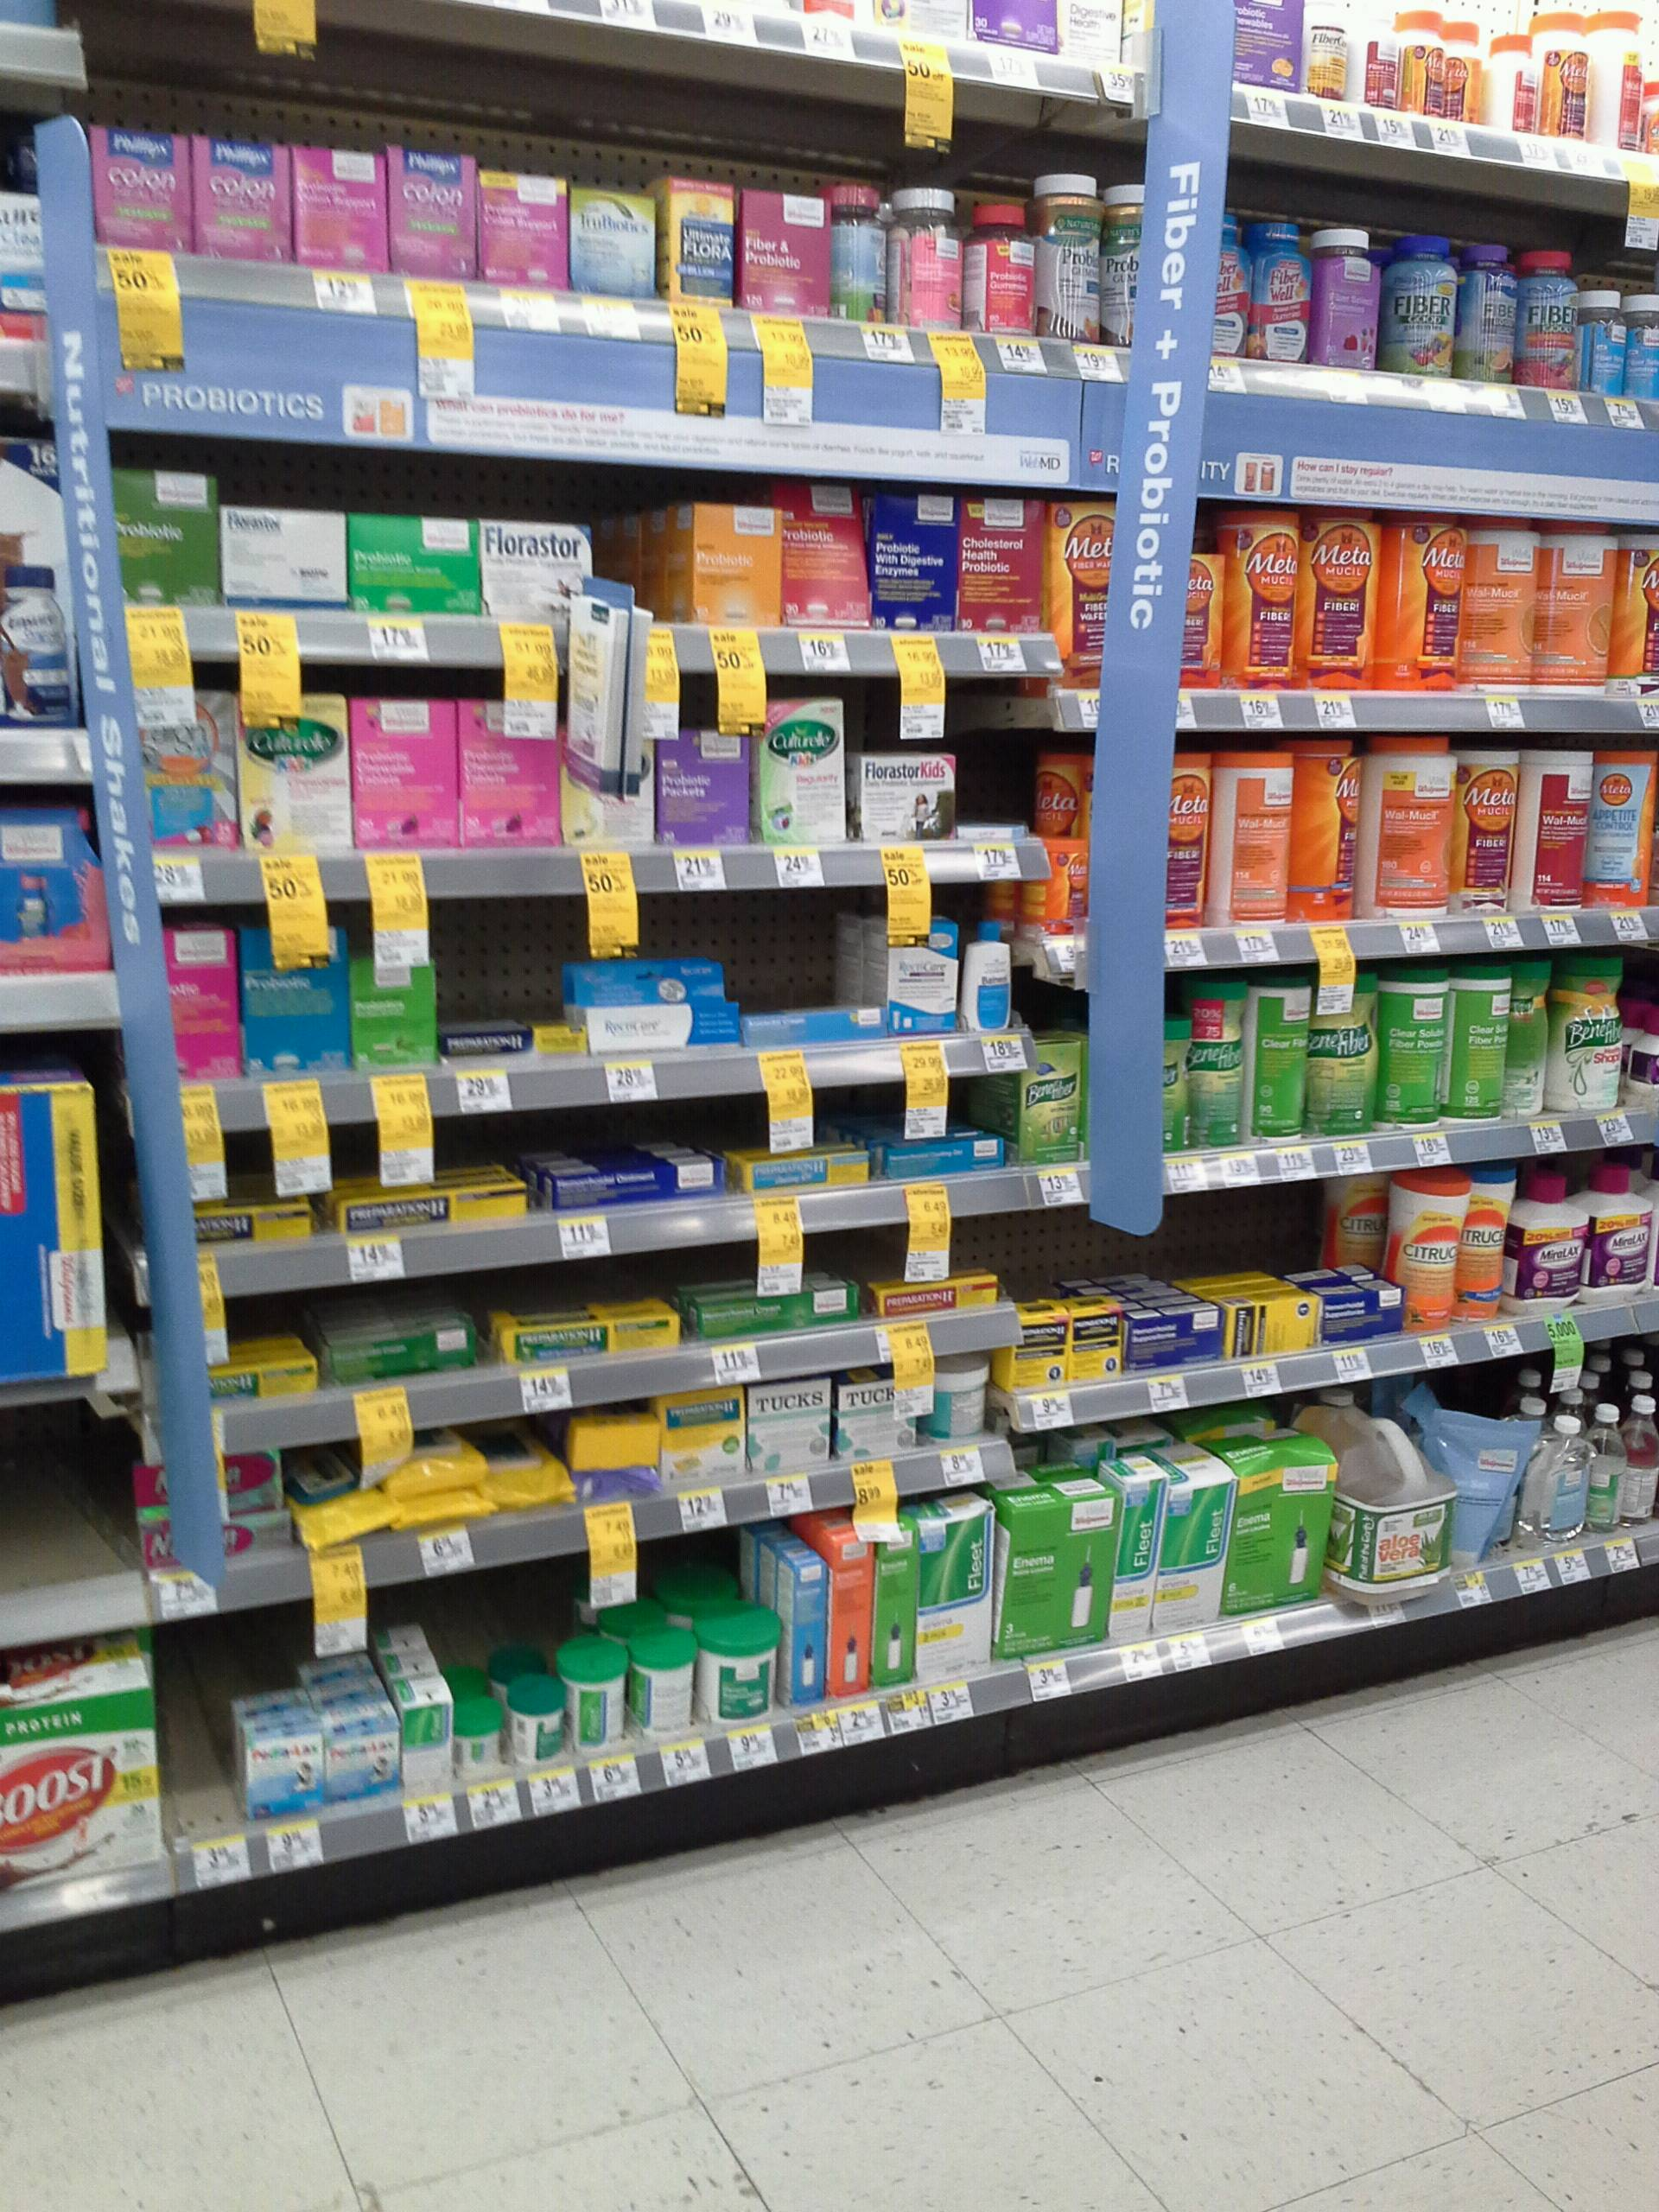Out-of-stock: (17, 1407, 127, 1623), (157, 1629, 239, 1862)
